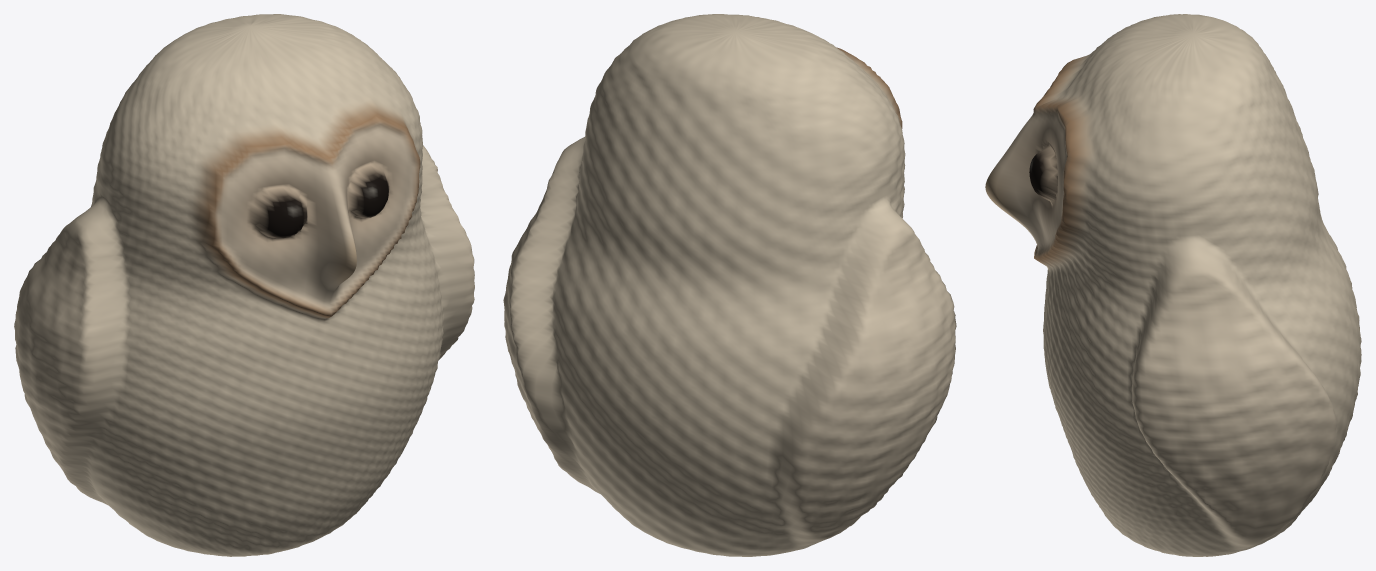
The model's file is wing-body-NO_RELEASE.glb.
3 renders of one model, left to right at view 1: azimuth 30°, elevation 25°; view 2: azimuth 150°, elevation 25°; view 3: azimuth 270°, elevation 25°, orthographic. The views are drawn at different scales.
Size of the model in its own units: 1.62 by 1.88 by 1.29.
